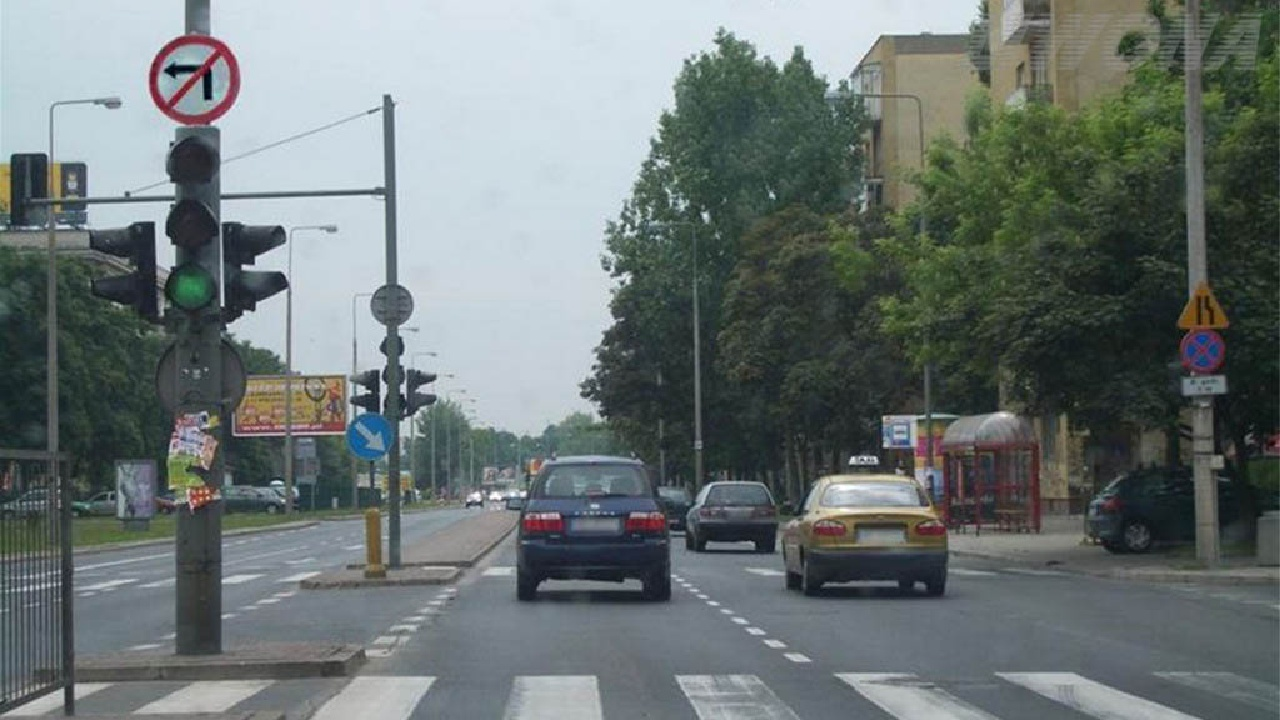A12b: (1176, 282, 1229, 329)
B21: (150, 35, 241, 124)
B36: (1179, 330, 1226, 372)
C9: (347, 412, 394, 460)
Green: (166, 129, 218, 316)
